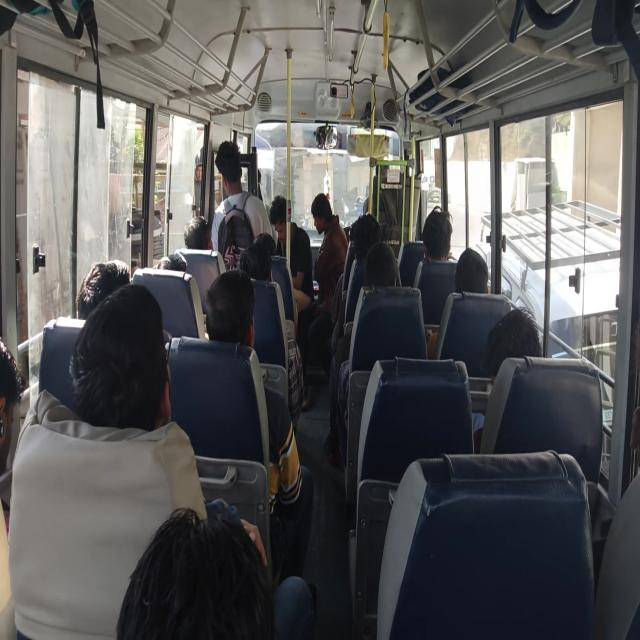person: (69, 282, 268, 570), (204, 268, 314, 578), (115, 505, 315, 639), (326, 241, 402, 467), (69, 283, 172, 432), (238, 242, 304, 432), (471, 307, 543, 451), (210, 140, 275, 272), (298, 192, 348, 354), (0, 337, 25, 638), (426, 247, 489, 359), (268, 194, 314, 311), (413, 206, 458, 324), (75, 258, 131, 320), (420, 206, 454, 262), (364, 241, 401, 288), (454, 247, 489, 294), (238, 242, 272, 281), (184, 216, 212, 250), (193, 147, 203, 217), (156, 252, 187, 271)
